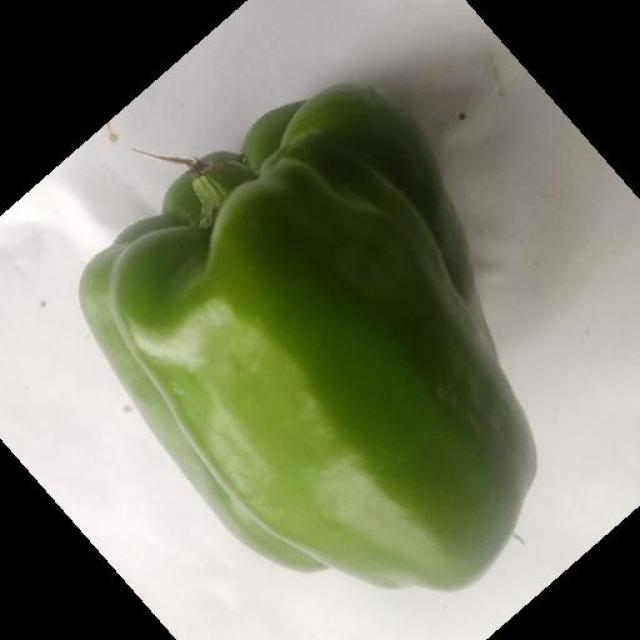Fresh_Capsicum: (64, 127, 520, 579)
